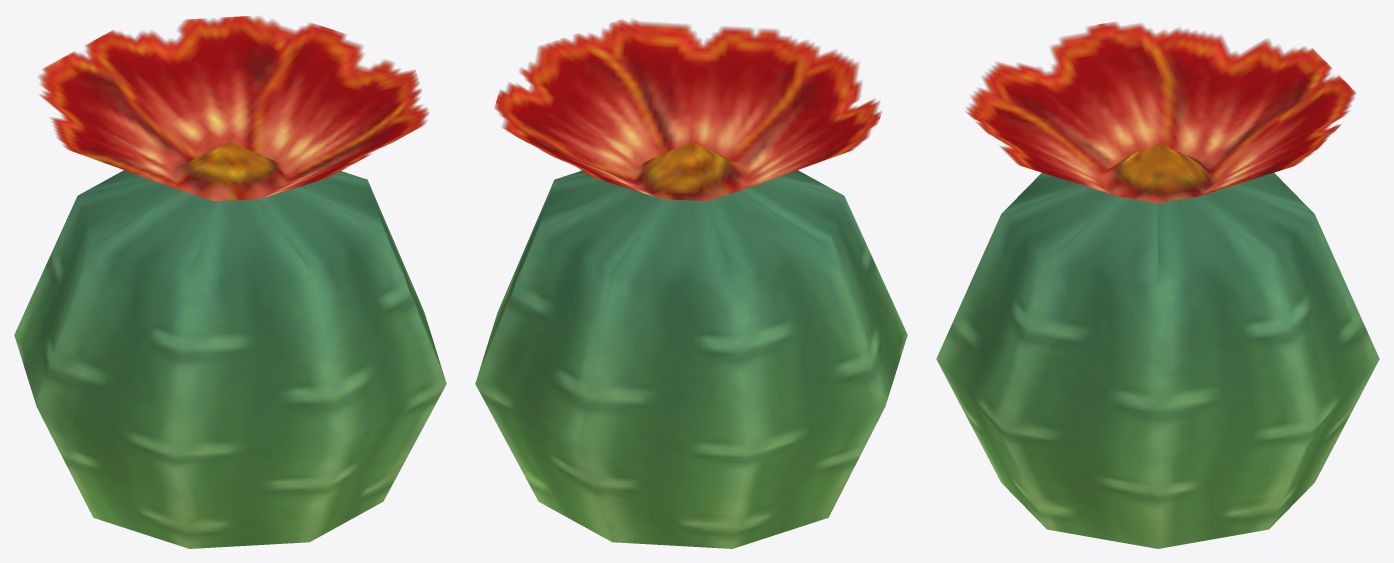
3 views of the same model, side by side, from view 1: azimuth 30°, elevation 25°; view 2: azimuth 150°, elevation 25°; view 3: azimuth 270°, elevation 25° (orthographic).
Visible parts, largest first — view 1: cactus_flower_red; view 2: cactus_flower_red; view 3: cactus_flower_red.
Boxes of the visible parts, x1,y1,x2,y2 form: cactus_flower_red: (14, 16, 446, 548); cactus_flower_red: (475, 19, 907, 548); cactus_flower_red: (936, 22, 1379, 548).
Size of the model in its own units: 68.19 by 64.72 by 68.19.
1 material, 1 textured.
